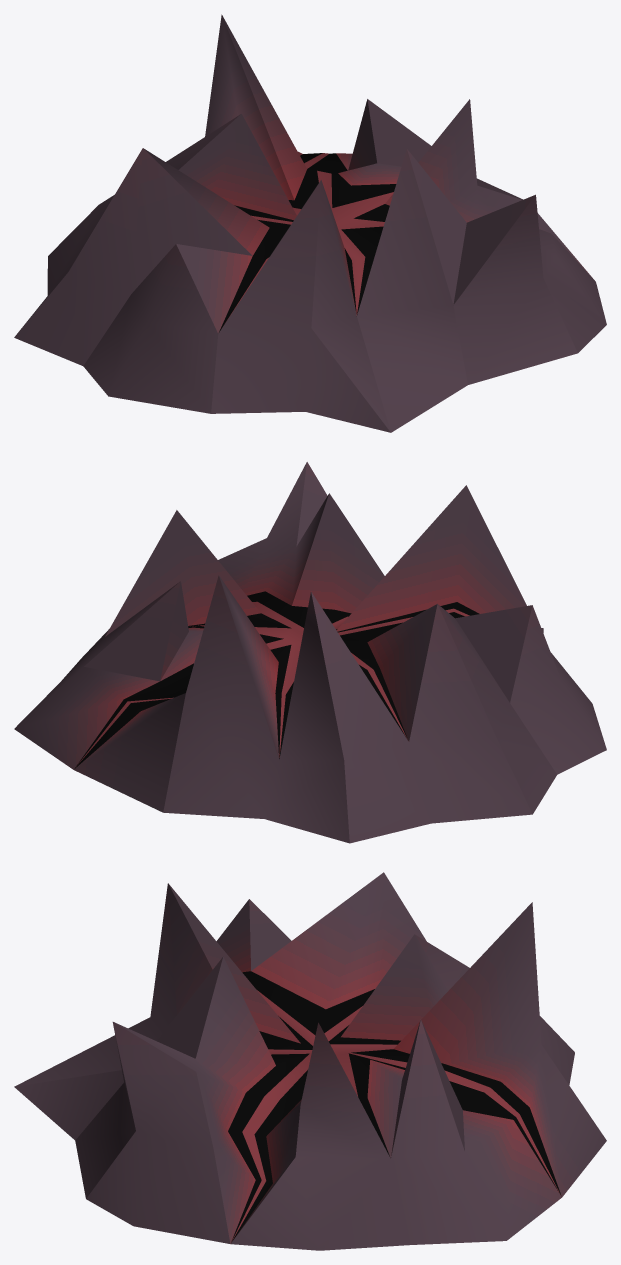
Rendered from volcan_anim_death.FBX.
3 renders of one model, top to bottom at view 1: azimuth 30°, elevation 25°; view 2: azimuth 150°, elevation 25°; view 3: azimuth 270°, elevation 25°, orthographic. The views are drawn at different scales.
Parts seen in each view (by area): view 1: Anim_volcan_death; view 2: Anim_volcan_death; view 3: Anim_volcan_death.
Boxes of the visible parts, left/top/right/bottom form: Anim_volcan_death: left=14, top=14, right=606, bottom=432; Anim_volcan_death: left=14, top=462, right=606, bottom=843; Anim_volcan_death: left=14, top=872, right=606, bottom=1250.
Size of the model in its own units: 236 by 98.51 by 232.
